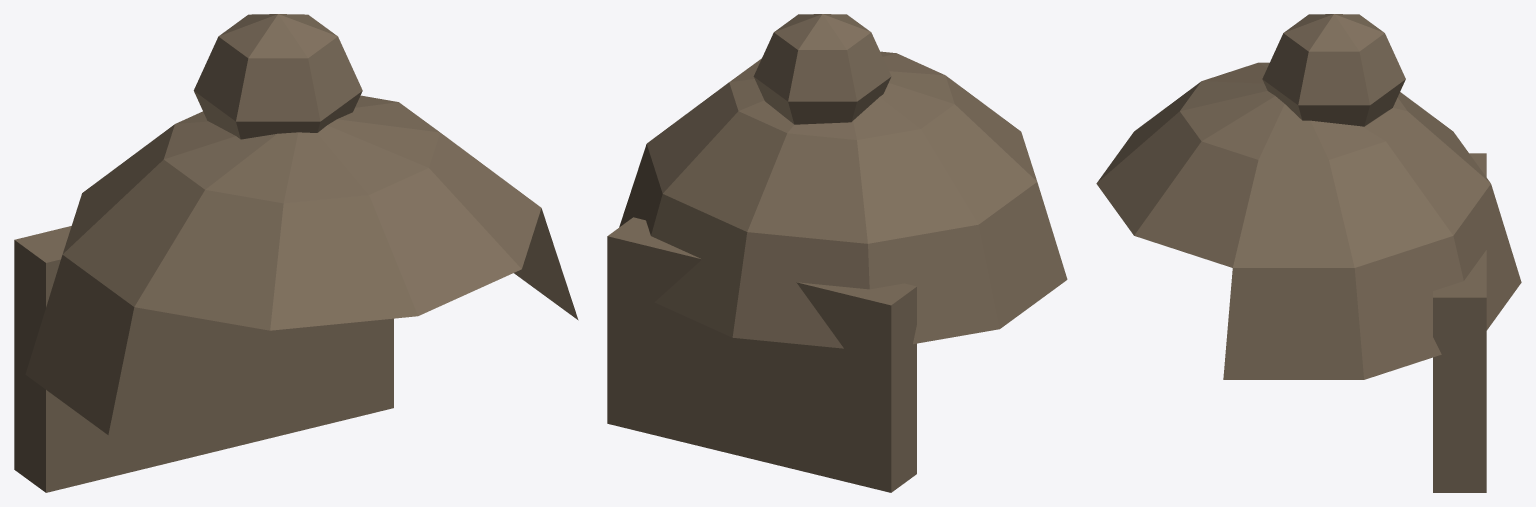
The model's file is half_up.glb.
3 views of the same model, side by side, from view 1: azimuth 30°, elevation 25°; view 2: azimuth 150°, elevation 25°; view 3: azimuth 270°, elevation 25° (orthographic). The views are drawn at different scales.
Parts seen in each view (by area): view 1: cap, box, sphere; view 2: cap, box, sphere; view 3: cap, sphere, box.
Part boxes in pixels (left/top/right/bottom): cap: left=25, top=95, right=578, bottom=434; box: left=14, top=226, right=393, bottom=492; sphere: left=193, top=14, right=362, bottom=139; cap: left=619, top=51, right=1067, bottom=348; box: left=607, top=217, right=916, bottom=492; sphere: left=753, top=14, right=891, bottom=124; cap: left=1096, top=62, right=1521, bottom=379; sphere: left=1262, top=14, right=1405, bottom=126; box: left=1433, top=153, right=1486, bottom=492.
Size of the model in its own units: 0.5136 by 0.5 by 0.4736.
